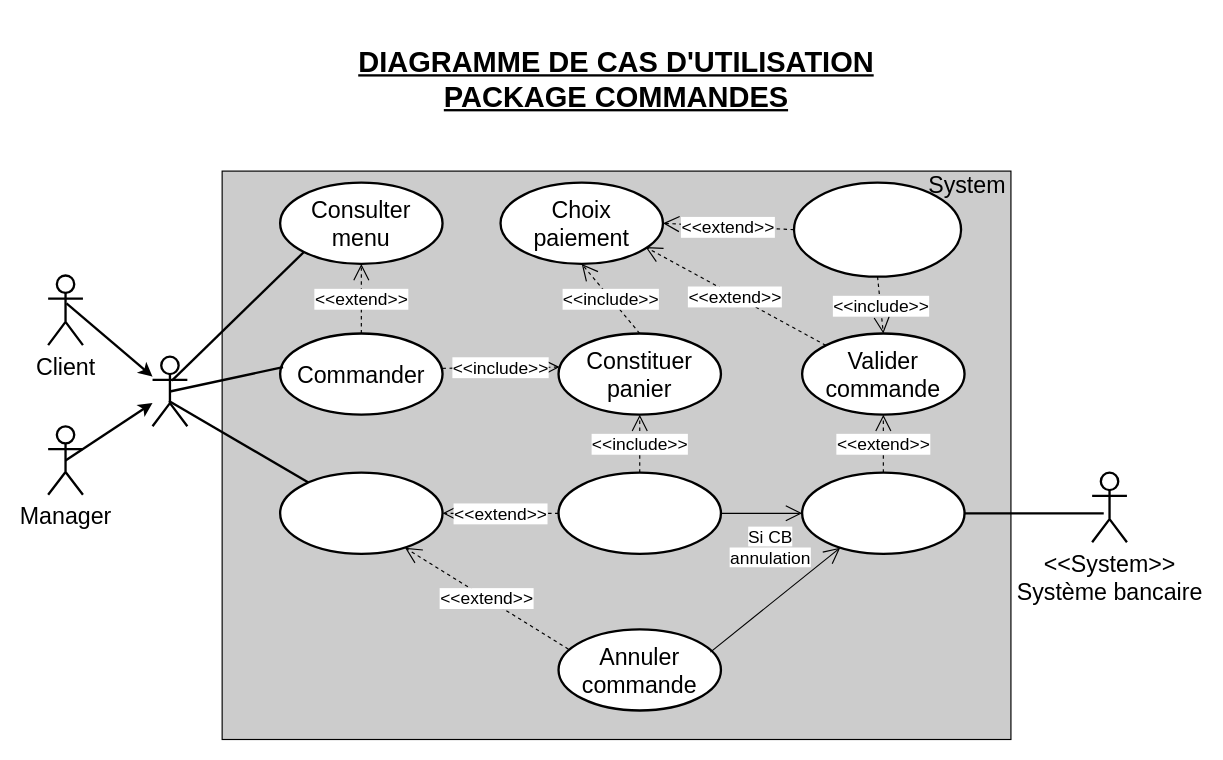
Image size: 1223x760. Some labels were removed from this diagram. The shapes that lost their labels are listed below. From the top down, each one's centre as x and y in pixels, then its label:
At point 877,229: "Entrer adresse livraison".
At point 169,391: "Utilisateur".
At point 360,512: "Etat de la commande".
At point 639,512: "Modifier commande".
At point 882,512: "Opération CB".
